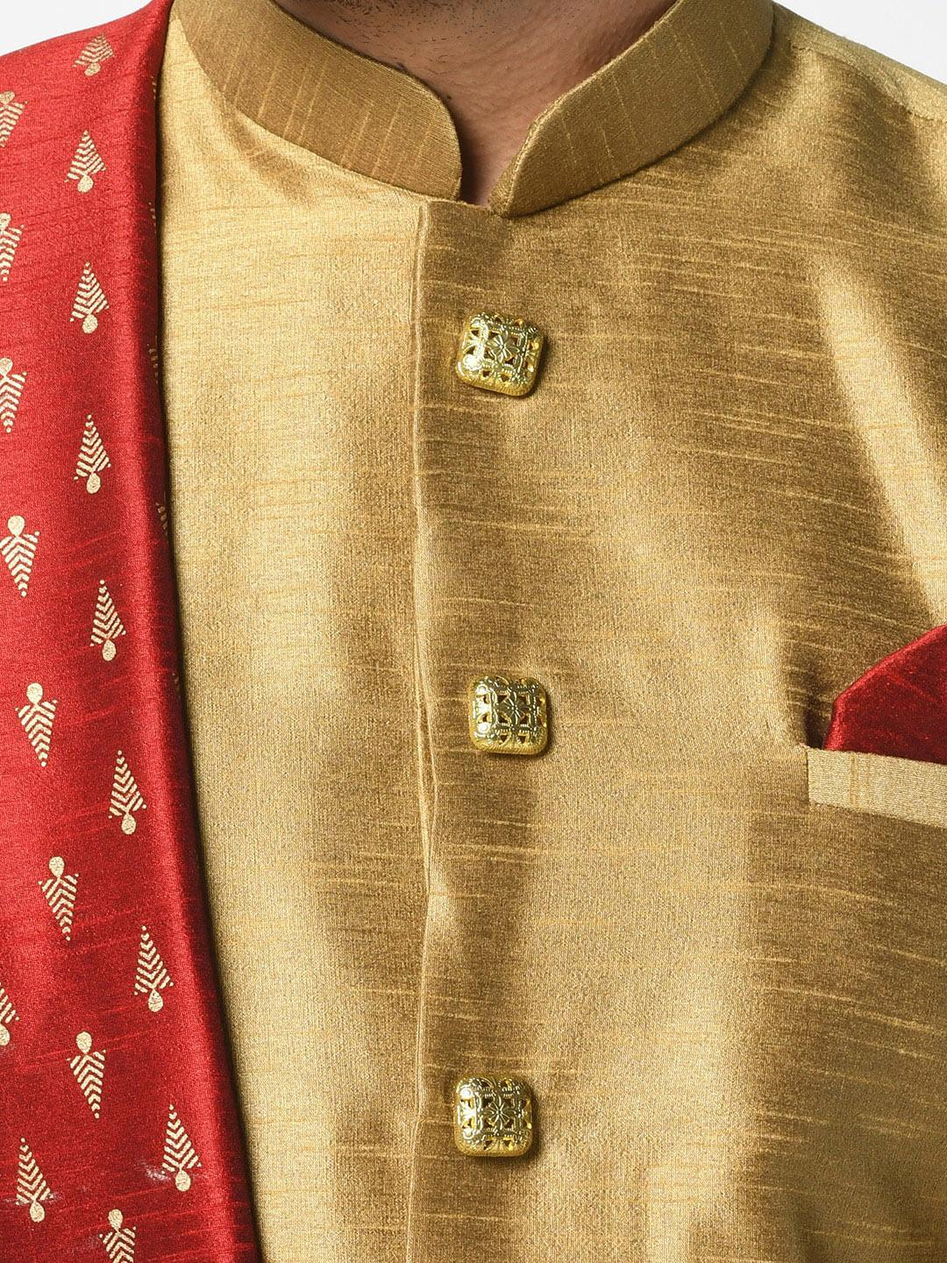Desgin sherwani: (4, 4, 945, 1261)
